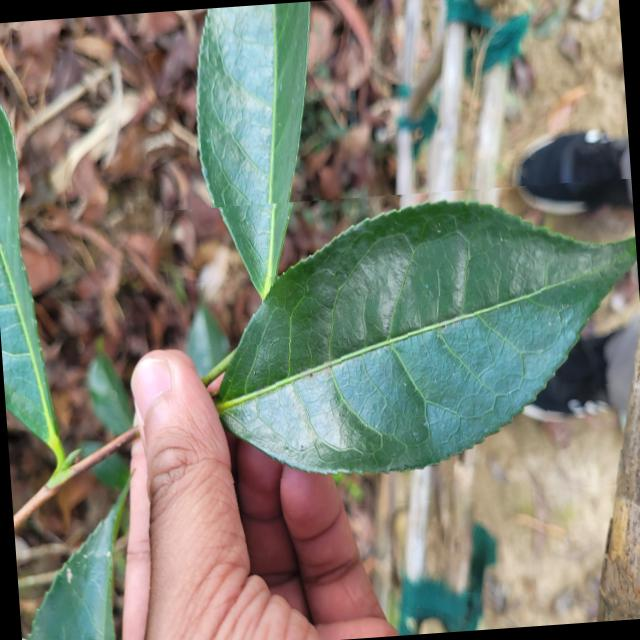Category D 7+ days, Not for Tea: (158, 177, 640, 520)
